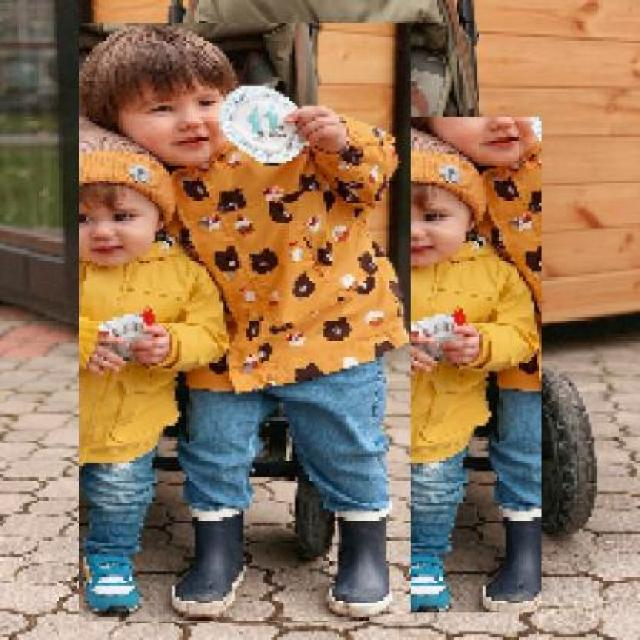child: (78, 23, 411, 623), (258, 117, 542, 614)
